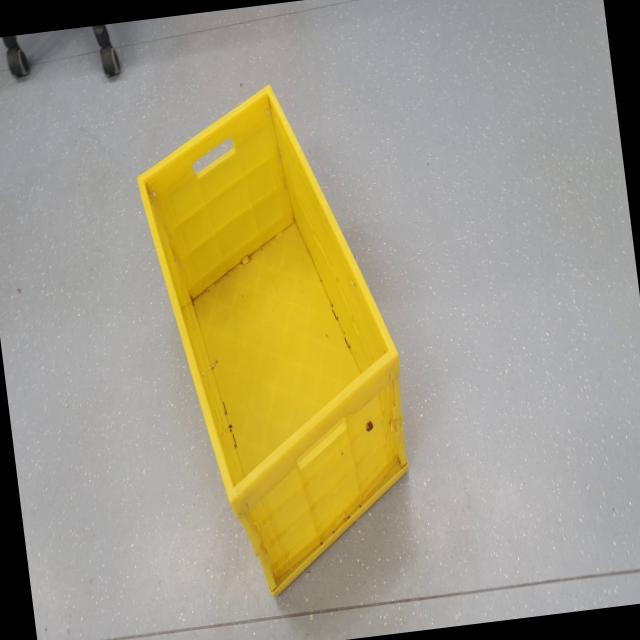box: (120, 51, 436, 616)
